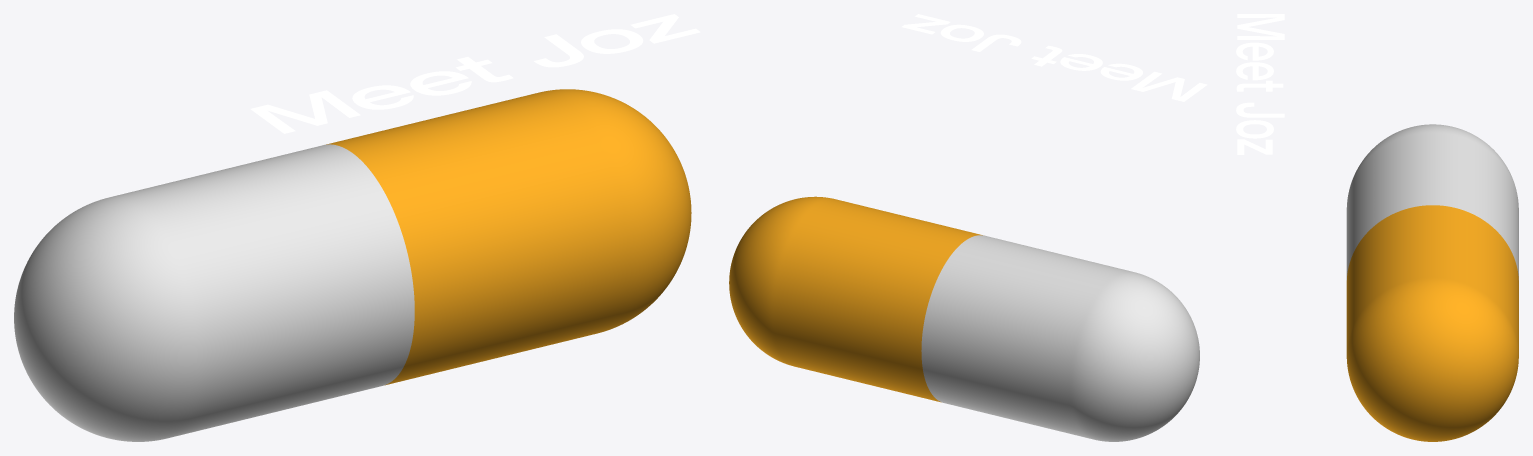
The model's file is ball.glb.
The picture shows the model from 3 angles, left to right: view 1: azimuth 30°, elevation 25°; view 2: azimuth 150°, elevation 25°; view 3: azimuth 270°, elevation 25°; orthographic projection. The views are drawn at different scales.
Parts seen in each view (by area): view 1: Roundcube, Curve; view 2: Roundcube, Curve; view 3: Roundcube, Curve.
Boxes of the visible parts, box(x1,y1,x2,y2) form: Roundcube: box(14, 89, 691, 441); Curve: box(250, 14, 700, 133); Roundcube: box(729, 196, 1199, 441); Curve: box(902, 14, 1207, 101); Roundcube: box(1346, 124, 1518, 441); Curve: box(1236, 14, 1284, 154).
Size of the model in its own units: 0.7776 by 0.4592 by 0.4258.
